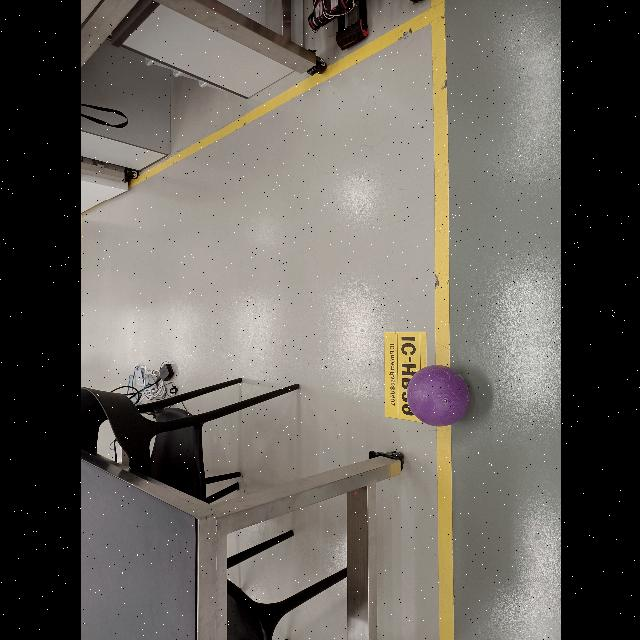P: (405, 366, 469, 426)
